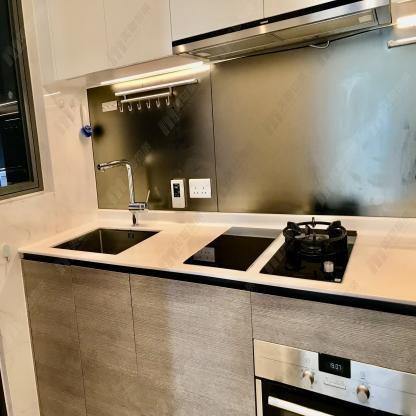Exhaust Hood: (172, 0, 394, 65)
Faucet: (92, 157, 153, 226)
Oven: (254, 338, 415, 416)
Sink: (18, 219, 186, 264)
Stove: (165, 211, 382, 295)
